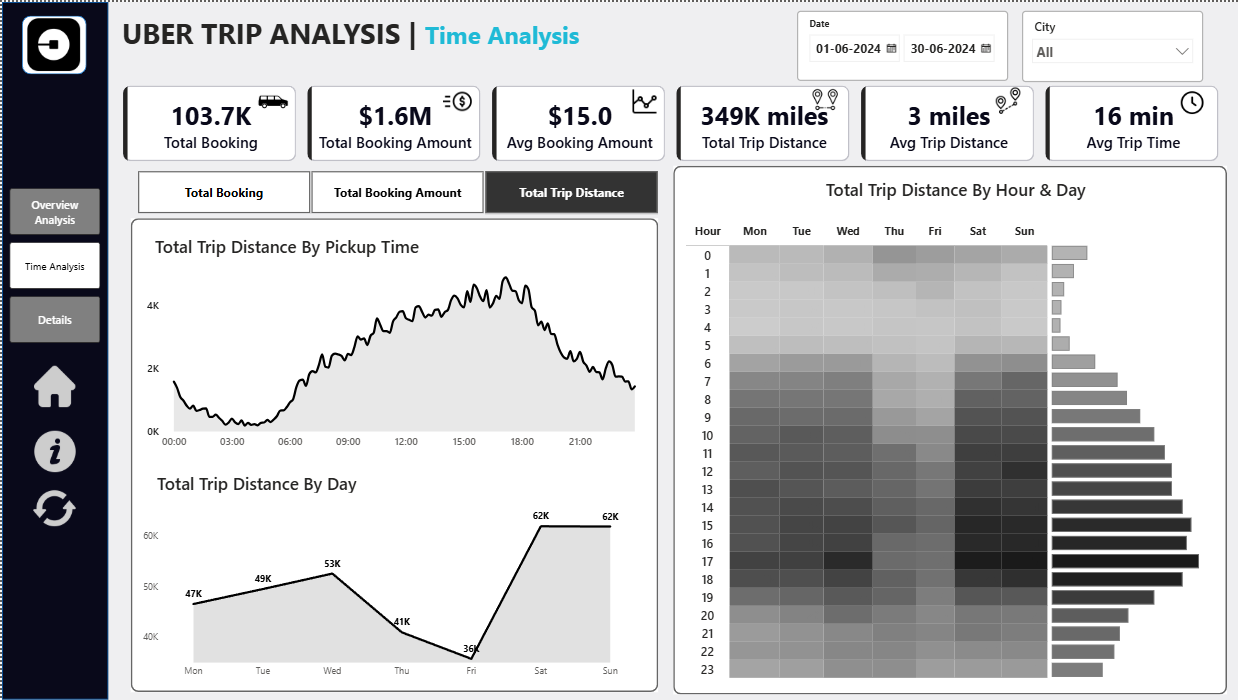

Layout of this report page (visuals, bound fields, positions):
{"tool":"powerbi","page":{"name":"Time Analysis","canvas":[1650,930],"ordinal":1},"visuals":[{"type":"shape","box":[171.7,288.3,703.3,631.7],"z":0},{"type":"shape","box":[0,0,141.7,930],"z":1000},{"type":"textbox","box":[155,11.7,635,70],"z":2000},{"type":"cardVisual","fields":{"Data":["Uber Trip Details .Total Booking","Uber Trip Details .Total Booking Amount","Uber Trip Details .Avg Booking Amount","Uber Trip Details .Total Trip Distance","Uber Trip Details .Avg Trip Distance","Uber Trip Details .Avg Trip Time"]},"box":[155,105,1478.3,113.3],"z":3000},{"type":"image","box":[580,113.3,55,38.3],"z":4000},{"type":"image","box":[1571.7,115,30,38.3],"z":5000},{"type":"image","box":[1078.3,113.3,38.3,33.3],"z":6000},{"type":"image","box":[1325,110,35,43.3],"z":7000},{"type":"image","box":[838.3,113.3,36.7,38.3],"z":8000},{"type":"image","box":[333.3,111.7,56.7,43.3],"z":9000},{"type":"slicer","fields":{"Values":["dynamic parameters.dynamic parameters"]},"box":[155,218.3,743.3,70],"z":10000},{"type":"slicer","fields":{"Values":["Calender Table.Date"]},"box":[1060,11.7,281.7,93.3],"z":11000},{"type":"slicer","fields":{"Values":["Location Table.City"]},"box":[1360,11.7,241.7,95],"z":12000},{"type":"areaChart","fields":{"Y":["Uber Trip Details .Total Trip Distance measure"],"Category":["Uber Trip Details .Time hour (bins)"]},"box":[188.3,348.3,676.7,256.7],"z":13000},{"type":"cardVisual","fields":{"Data":["Uber Trip Details .Title By Pickup Time"]},"box":[180,300,400,48.3],"z":14000},{"type":"areaChart","fields":{"Y":["Uber Trip Details .Total Trip Distance measure"],"Category":["Calender Table.Day Name"]},"box":[183.3,665,670,245],"z":15000},{"type":"shape","box":[895,218.3,738.3,705],"z":16000},{"type":"cardVisual","fields":{"Data":["Uber Trip Details .Title By Day Name"]},"box":[183.3,621.7,313.3,36.7],"z":17000},{"type":"pivotTable","fields":{"Values":["Uber Trip Details .Total Trip Distance measure"],"Rows":["Uber Trip Details .Pickup Hour"],"Columns":["Calender Table.Day Name"]},"box":[906.7,288.3,503.3,621.7],"z":18000},{"type":"barChart","fields":{"Y":["Uber Trip Details .Total Trip Distance measure"],"Category":["Uber Trip Details .Pickup Hour"]},"box":[1395,311.7,225,618.3],"z":19000},{"type":"cardVisual","fields":{"Data":["Uber Trip Details .Title By Hour and Day"]},"box":[1072,225,400,46.7],"z":20000},{"type":"group","id":"g1","title":"Group 1","box":[26.7,20,88.3,78],"z":21000},{"type":"pageNavigator","box":[10,248.3,121.7,208.3],"z":22000},{"type":"image","box":[16.5,571.7,108.3,55],"z":23000},{"type":"image","box":[20.6,646.7,100,56.7],"z":24000},{"type":"image","box":[27.3,485,86.7,55],"z":25000},{"type":"shape","box":[28.4,20,86,78],"z":34000,"group":"g1"},{"type":"image","box":[26.7,23.3,88.3,70],"z":35000,"group":"g1"}]}

Visuals, with their boxes on the page's 1650x930 design canvas (x1, y1, x2, y2). These are canvas units, not pixel positions in the 1238x700 screenshot, which may show the page scaled, cropped or inside an application window:
shape: <bbox>172, 288, 875, 920</bbox>
shape: <bbox>0, 0, 142, 930</bbox>
textbox: <bbox>155, 12, 790, 82</bbox>
cardVisual - Uber Trip Details .Total Booking x Uber Trip Details .Total Booking Amount: <bbox>155, 105, 1633, 218</bbox>
image: <bbox>580, 113, 635, 152</bbox>
image: <bbox>1572, 115, 1602, 153</bbox>
image: <bbox>1078, 113, 1117, 147</bbox>
image: <bbox>1325, 110, 1360, 153</bbox>
image: <bbox>838, 113, 875, 152</bbox>
image: <bbox>333, 112, 390, 155</bbox>
slicer - dynamic parameters.dynamic parameters: <bbox>155, 218, 898, 288</bbox>
slicer - Calender Table.Date: <bbox>1060, 12, 1342, 105</bbox>
slicer - Location Table.City: <bbox>1360, 12, 1602, 107</bbox>
areaChart - Uber Trip Details .Total Trip Distance measure x Uber Trip Details .Time hour (bins): <bbox>188, 348, 865, 605</bbox>
cardVisual - Uber Trip Details .Title By Pickup Time: <bbox>180, 300, 580, 348</bbox>
areaChart - Uber Trip Details .Total Trip Distance measure x Calender Table.Day Name: <bbox>183, 665, 853, 910</bbox>
shape: <bbox>895, 218, 1633, 923</bbox>
cardVisual - Uber Trip Details .Title By Day Name: <bbox>183, 622, 497, 658</bbox>
pivotTable - Uber Trip Details .Total Trip Distance measure x Uber Trip Details .Pickup Hour: <bbox>907, 288, 1410, 910</bbox>
barChart - Uber Trip Details .Total Trip Distance measure x Uber Trip Details .Pickup Hour: <bbox>1395, 312, 1620, 930</bbox>
cardVisual - Uber Trip Details .Title By Hour and Day: <bbox>1072, 225, 1472, 272</bbox>
"Group 1" group: <bbox>27, 20, 115, 98</bbox>
pageNavigator: <bbox>10, 248, 132, 457</bbox>
image: <bbox>16, 572, 125, 627</bbox>
image: <bbox>21, 647, 121, 703</bbox>
image: <bbox>27, 485, 114, 540</bbox>
shape: <bbox>28, 20, 114, 98</bbox>
image: <bbox>27, 23, 115, 93</bbox>
